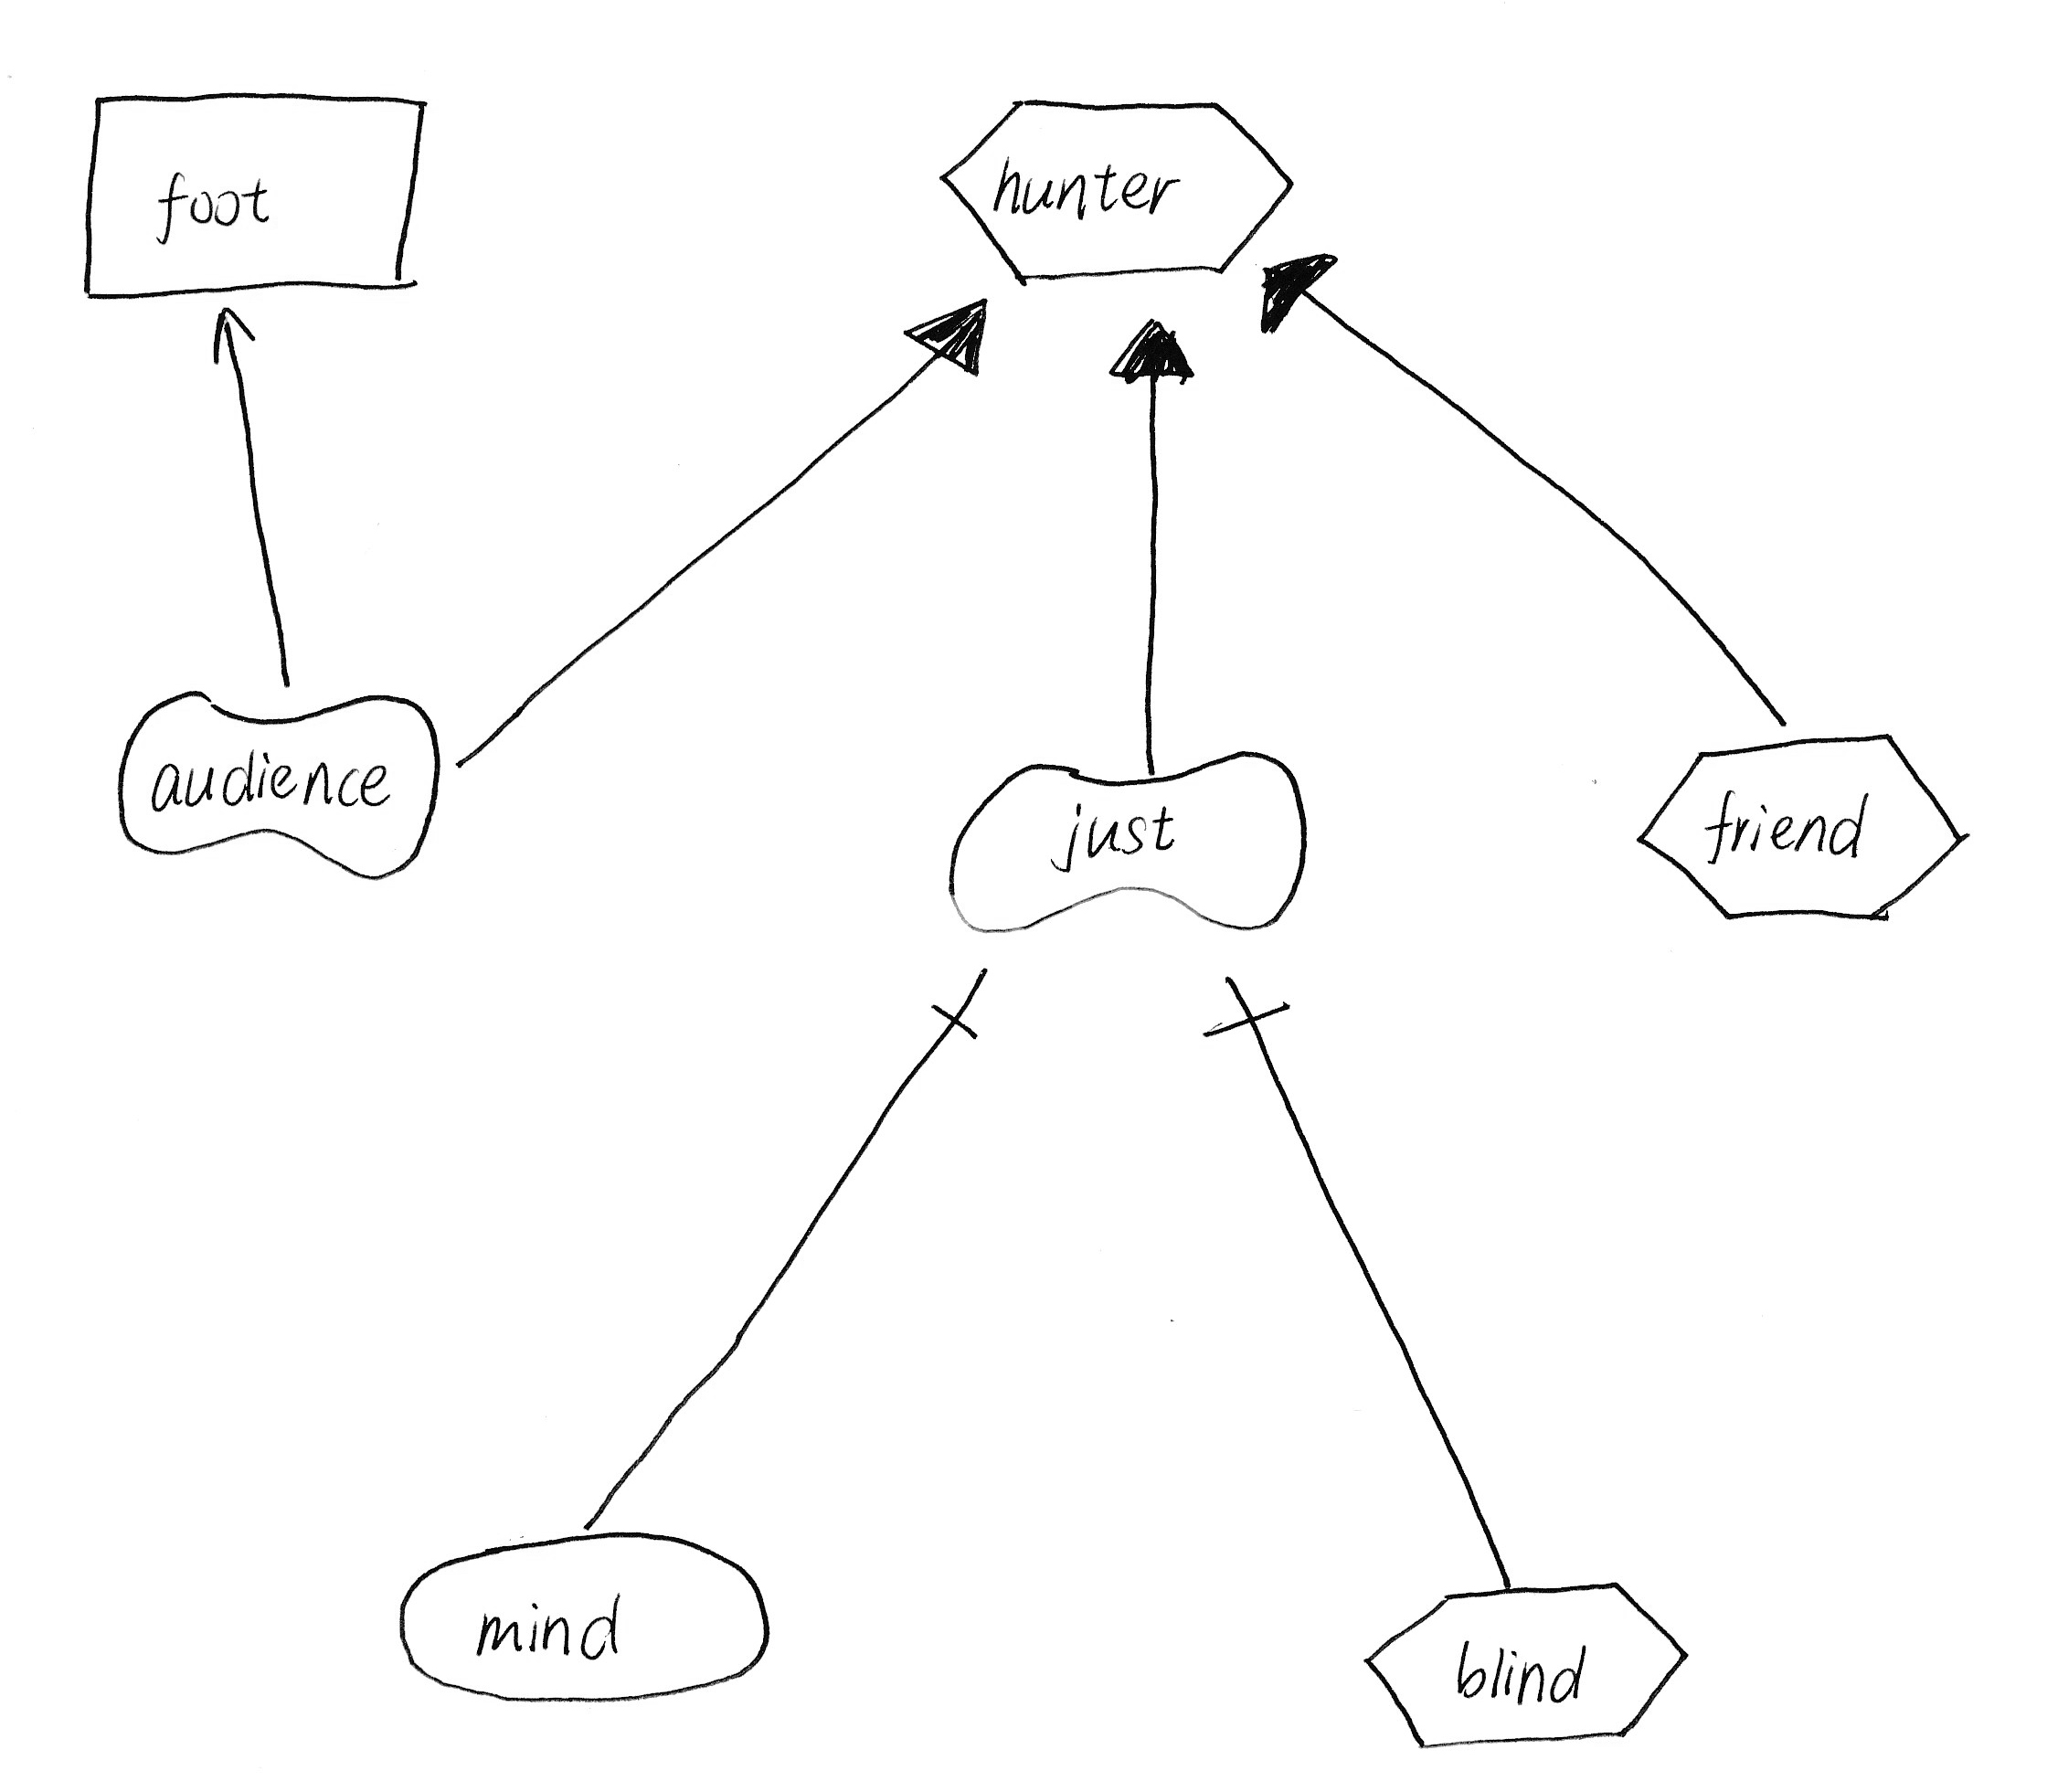and: (1192, 955, 1295, 1054), (919, 955, 1008, 1053)
arrow: (204, 294, 272, 369)
goal: (378, 1514, 795, 1715)
or: (896, 289, 1001, 393), (1243, 242, 1347, 343), (1102, 306, 1211, 395)
quality: (931, 734, 1330, 948), (99, 672, 456, 893)
resource: (64, 73, 444, 315)
task: (1624, 719, 1995, 945), (924, 82, 1309, 294), (1344, 1564, 1702, 1764)
